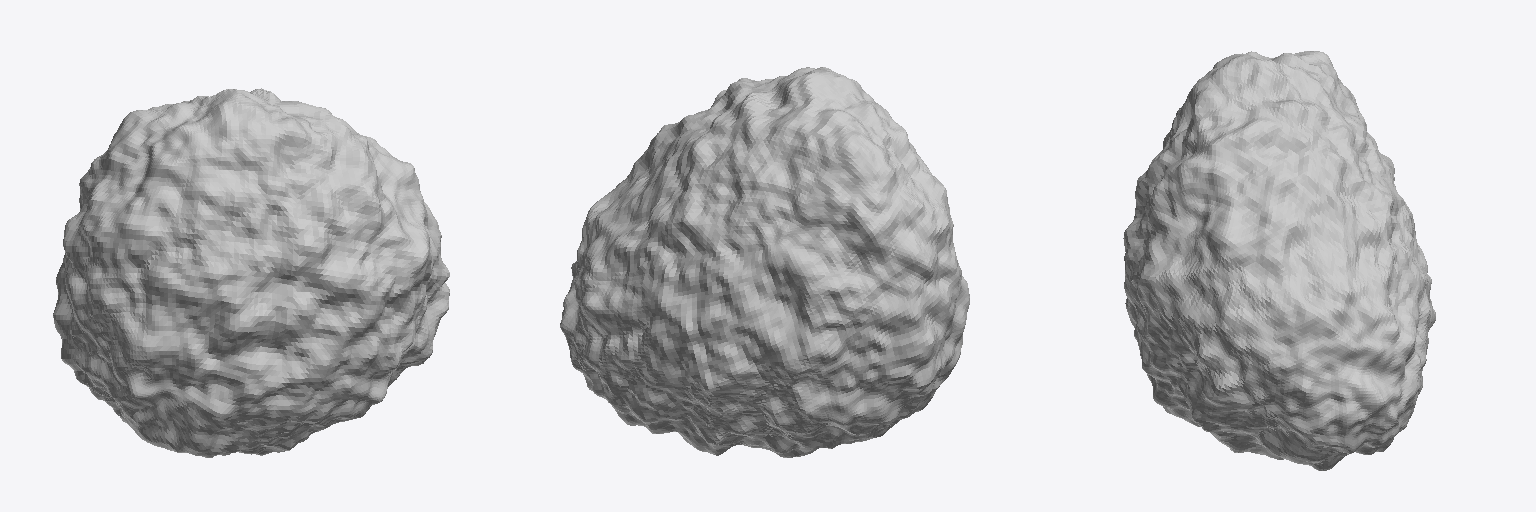
File: Asteroid_3.obj
The picture shows the model from 3 angles: view 1: azimuth 30°, elevation 25°; view 2: azimuth 150°, elevation 25°; view 3: azimuth 270°, elevation 25°; orthographic projection.
Visible parts, largest first — view 1: Cube; view 2: Cube; view 3: Cube.
Boxes of the visible parts, x1=… form: Cube: x1=53, y1=88, x2=449, y2=457; Cube: x1=560, y1=67, x2=969, y2=457; Cube: x1=1123, y1=51, x2=1435, y2=470.
Bounding box in the file's own units: 2.45 × 2.31 × 1.81.